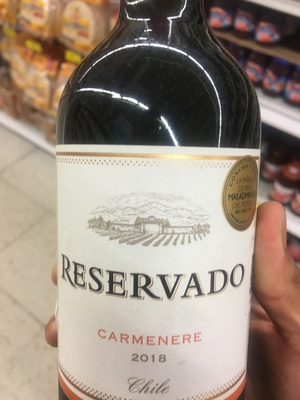reservado carmenere: (55, 4, 259, 400)
